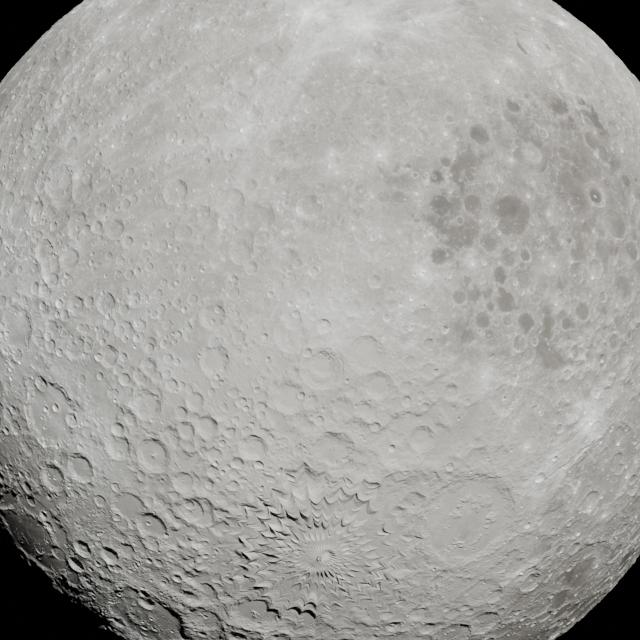crater: (106, 488, 154, 532), (299, 349, 343, 390), (311, 432, 354, 469), (270, 318, 309, 356), (492, 194, 528, 233), (125, 393, 164, 428), (347, 336, 384, 372), (172, 492, 211, 526), (266, 385, 306, 417), (135, 438, 170, 474), (358, 372, 395, 406), (2, 304, 31, 345), (198, 348, 230, 382), (34, 240, 62, 278), (43, 168, 72, 204), (463, 581, 501, 608), (170, 468, 202, 498), (66, 453, 95, 484), (515, 32, 549, 58), (190, 414, 220, 443), (236, 433, 267, 461), (103, 431, 131, 462), (70, 174, 95, 208), (407, 427, 436, 455), (162, 178, 190, 207), (182, 386, 210, 414), (294, 195, 322, 221), (278, 308, 304, 335), (219, 187, 244, 212), (519, 141, 544, 166), (283, 246, 306, 273), (57, 246, 80, 272), (173, 221, 197, 245), (44, 464, 66, 490), (471, 611, 501, 630), (608, 212, 628, 240), (175, 419, 198, 443), (66, 218, 87, 244), (92, 65, 115, 88), (430, 194, 452, 217), (27, 200, 46, 226), (102, 218, 124, 240), (496, 288, 515, 311), (549, 96, 570, 116), (65, 295, 84, 316), (469, 125, 490, 144), (66, 554, 86, 573), (252, 230, 272, 248), (608, 451, 626, 471), (517, 313, 535, 333), (73, 540, 92, 558), (464, 194, 482, 213), (519, 577, 540, 593), (615, 275, 631, 296), (105, 344, 121, 364), (100, 546, 120, 562), (136, 595, 156, 611), (512, 335, 529, 353), (101, 292, 118, 310), (583, 490, 600, 507), (431, 248, 448, 264), (624, 242, 638, 261), (576, 302, 590, 321), (316, 318, 332, 334), (109, 422, 125, 438), (49, 546, 65, 562), (222, 147, 239, 162), (482, 237, 499, 252), (90, 218, 104, 236), (367, 274, 382, 290), (588, 258, 602, 275), (34, 376, 48, 393), (476, 312, 490, 329), (494, 266, 507, 284), (65, 412, 79, 428), (94, 202, 108, 218), (33, 118, 47, 134), (589, 188, 603, 204), (506, 99, 522, 113), (243, 261, 258, 275), (569, 262, 583, 277), (120, 130, 135, 144), (24, 492, 37, 508), (93, 494, 107, 508), (121, 234, 135, 248), (244, 178, 258, 192), (519, 248, 532, 263), (186, 293, 199, 307), (444, 382, 458, 395), (380, 522, 394, 535), (429, 170, 443, 183), (22, 480, 34, 495), (453, 291, 466, 304), (307, 265, 321, 277), (171, 571, 184, 583), (148, 58, 161, 70), (228, 274, 239, 288), (381, 311, 393, 323), (290, 308, 302, 320), (534, 473, 546, 485), (54, 297, 65, 310), (622, 174, 632, 188), (38, 300, 49, 312), (454, 216, 466, 227), (110, 483, 121, 494), (462, 92, 473, 102), (50, 403, 60, 413), (444, 462, 454, 472), (112, 512, 122, 522), (445, 114, 455, 124), (120, 112, 130, 122), (296, 391, 306, 400), (598, 355, 606, 366), (96, 371, 104, 381), (522, 522, 532, 530), (388, 442, 396, 452), (550, 454, 559, 462), (574, 530, 582, 539), (2, 427, 10, 436)
